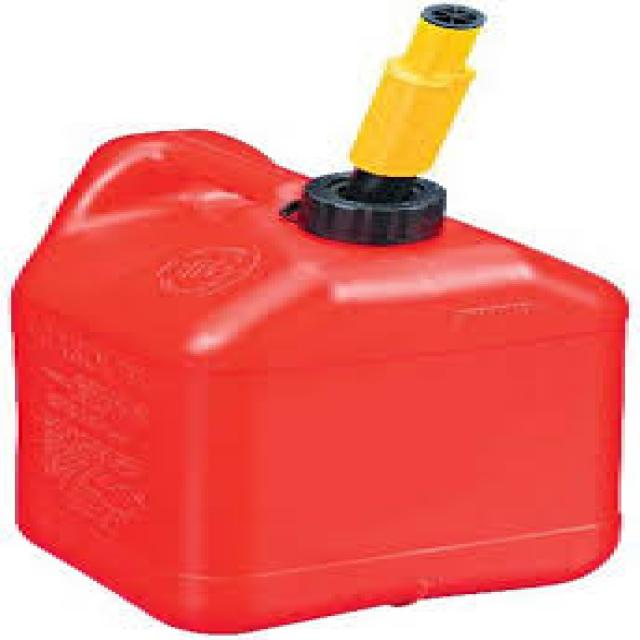screw_driver: (6, 0, 626, 632)
